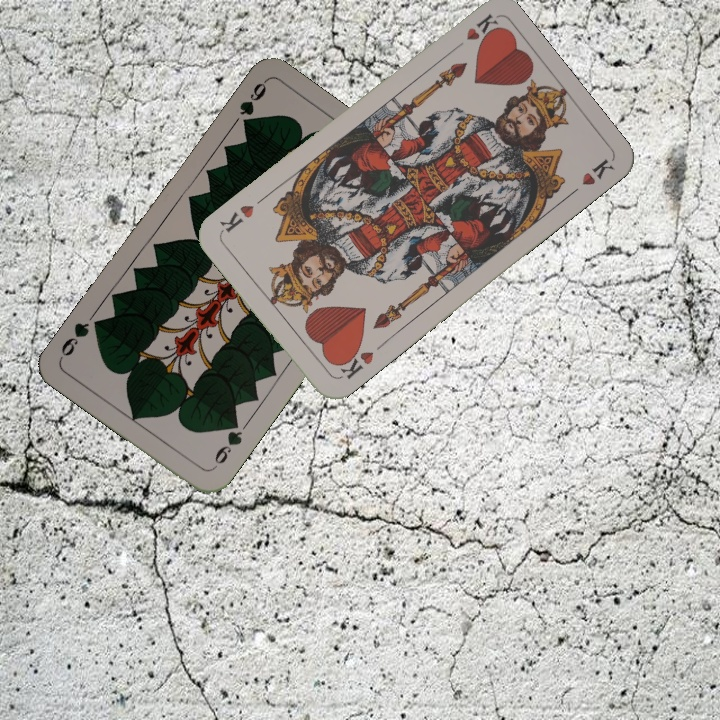G9: (208, 415, 245, 472), (235, 77, 269, 129)
HK: (447, 9, 500, 55), (332, 342, 376, 382)
